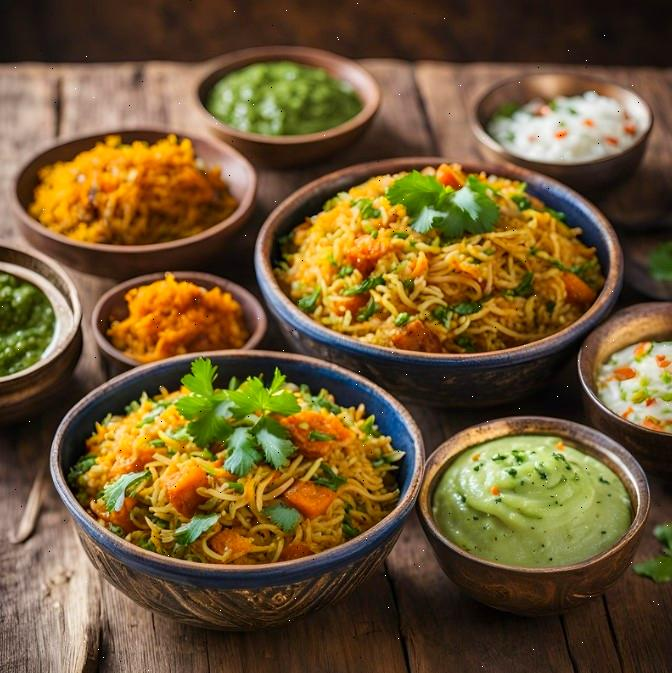veg-pulao: (92, 364, 359, 549), (297, 181, 546, 339)
